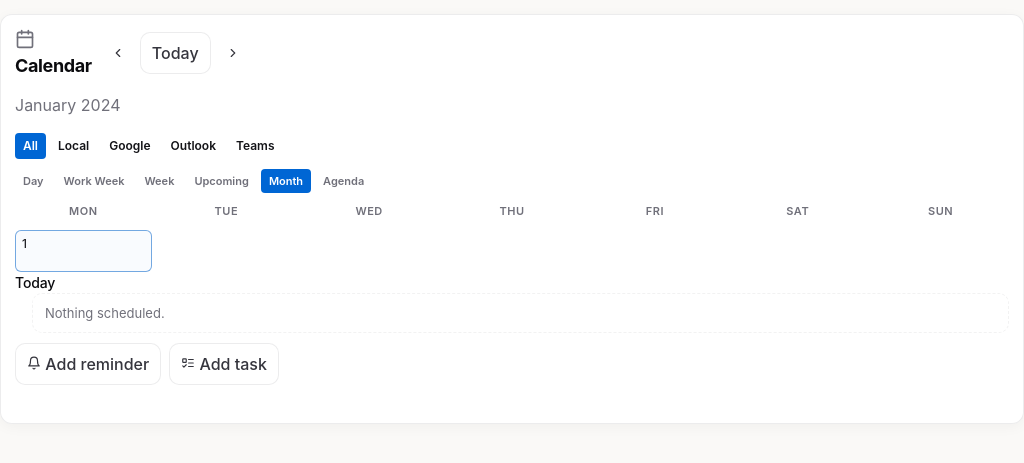
Test case: CalendarPanel › Day view with events shows only occupied hours
Click the button "Day" at (33, 181), box [15,169,52,193]
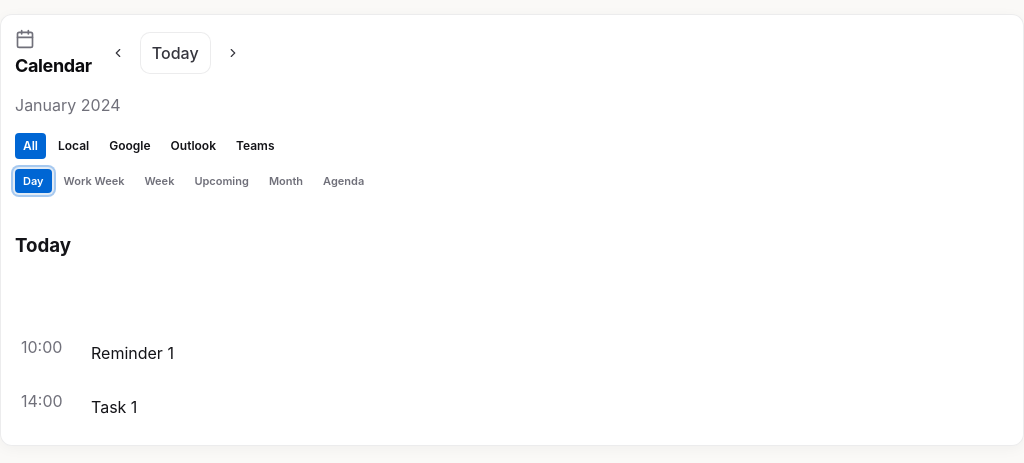
Now the text "10:00" is shown, box [21,337,62,357]
Now the text "14:00" is shown, box [21,391,63,411]
Now the text "Reminder 1" is shown, box [91,343,174,363]
